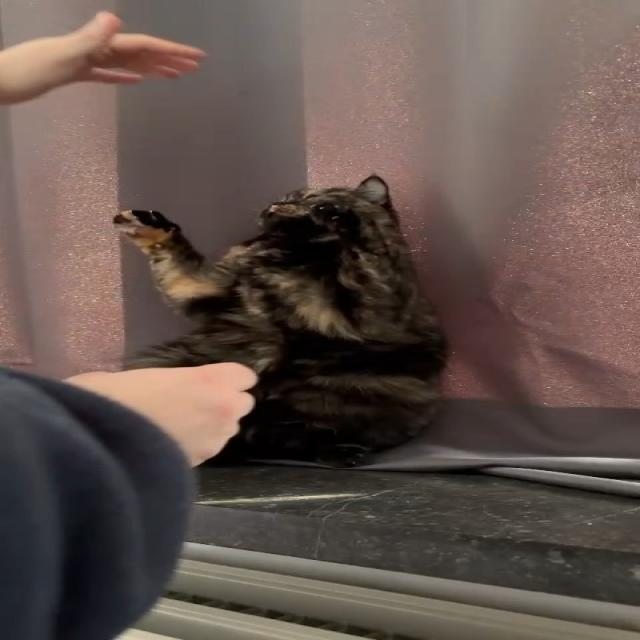authorized: (110, 173, 450, 469)
